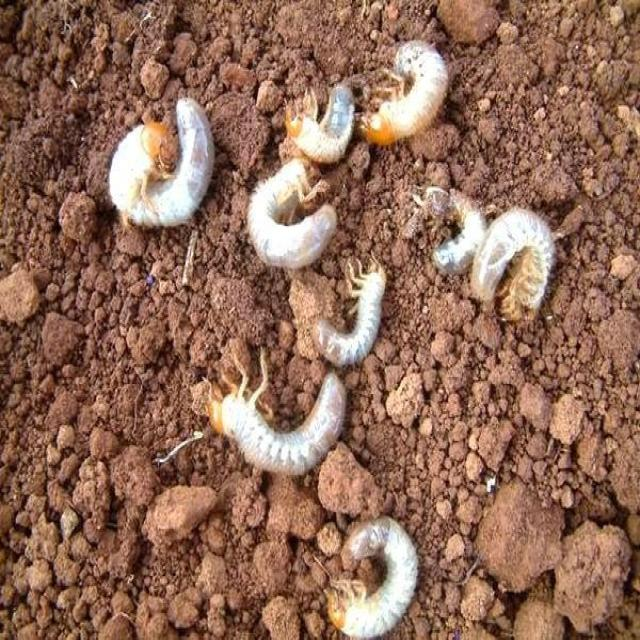grub: (244, 146, 354, 274), (215, 371, 350, 473), (110, 112, 222, 231), (326, 521, 441, 633), (362, 42, 472, 157), (473, 204, 562, 330), (308, 267, 402, 369), (276, 73, 364, 154)
